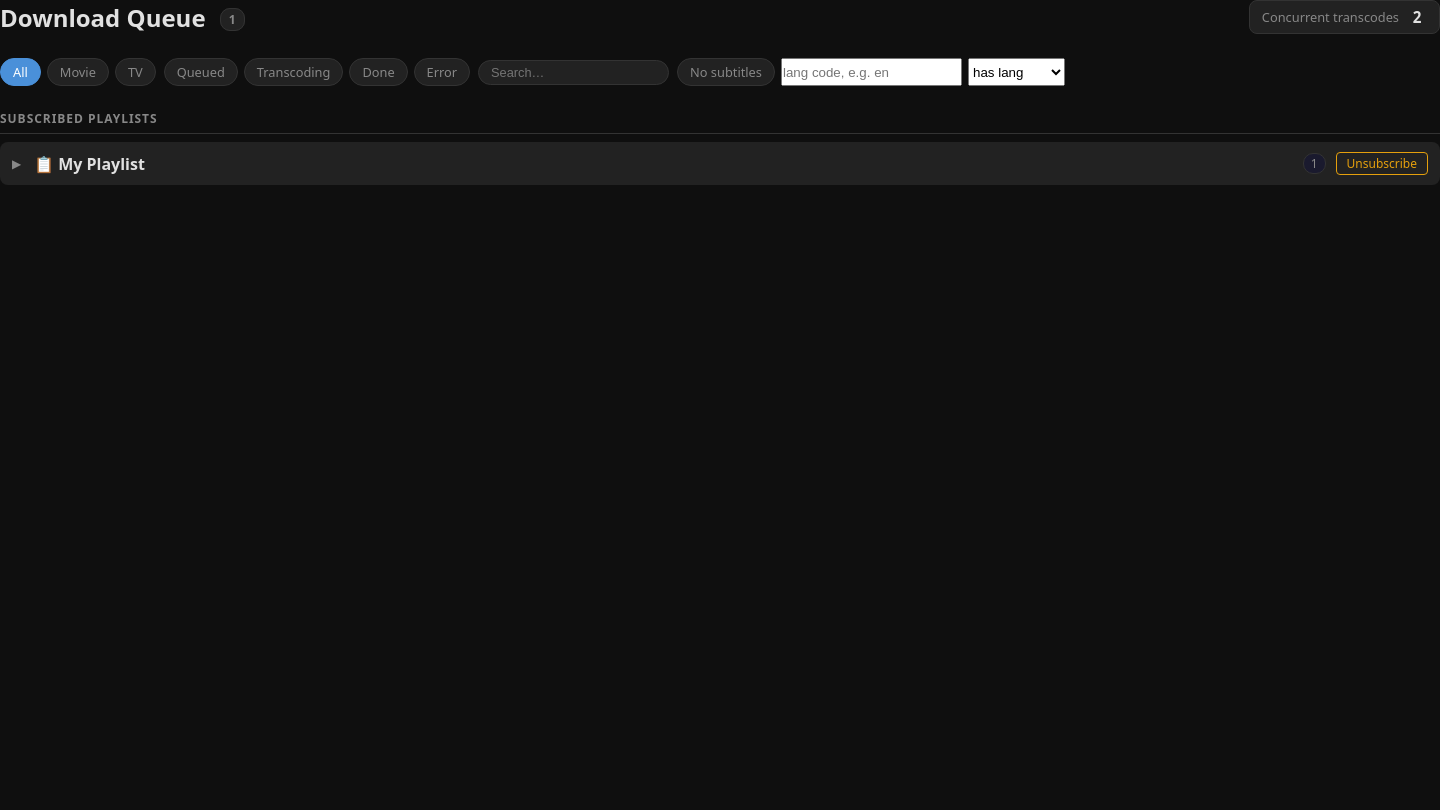
Test case: QueueView › unsubscribe with 0 queued items shows message without count
The image size is (1440, 810).
Click the button with test id "unsub-btn-5" at {"x": 1382, "y": 164}, box [1336,152,1428,175]
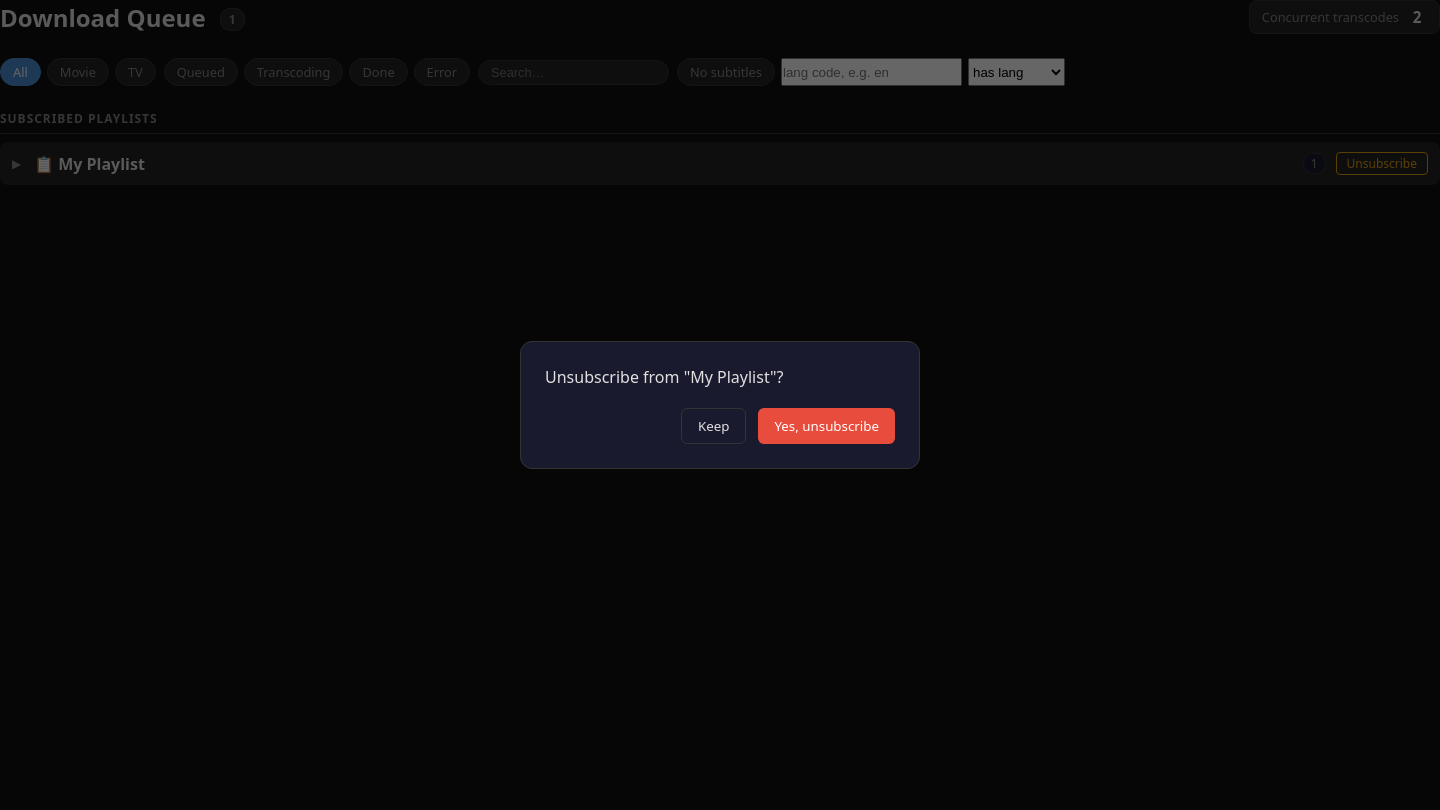
Check: the element with class "modal-message" does not show "download"
Check: the text with class "modal-message" shows "My Playlist", box [545,366,784,388]
